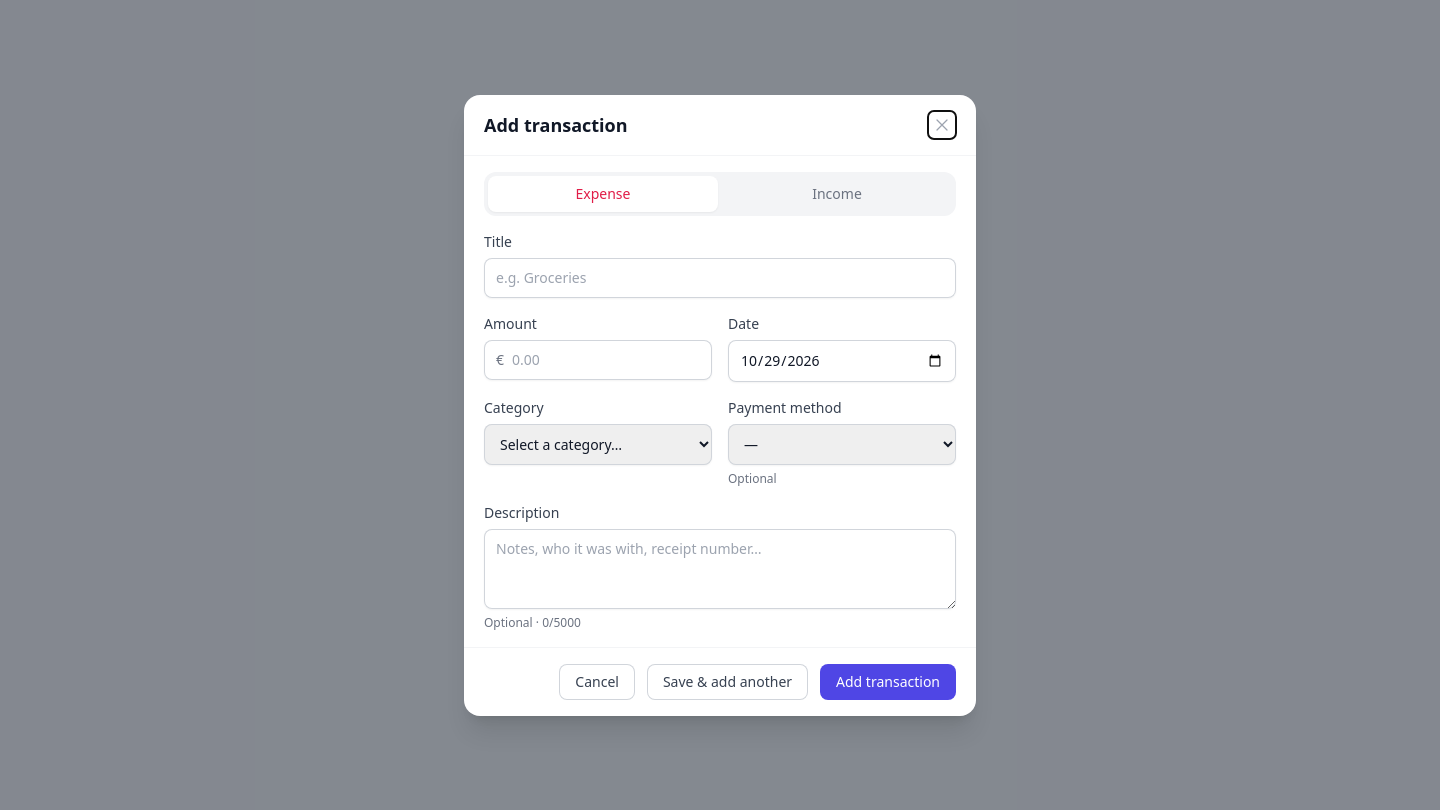
Test case: does not submit an invalid form
This screenshot has width=1440, height=810.
Click the button "Add transaction" at (888, 682), box [820, 664, 956, 700]
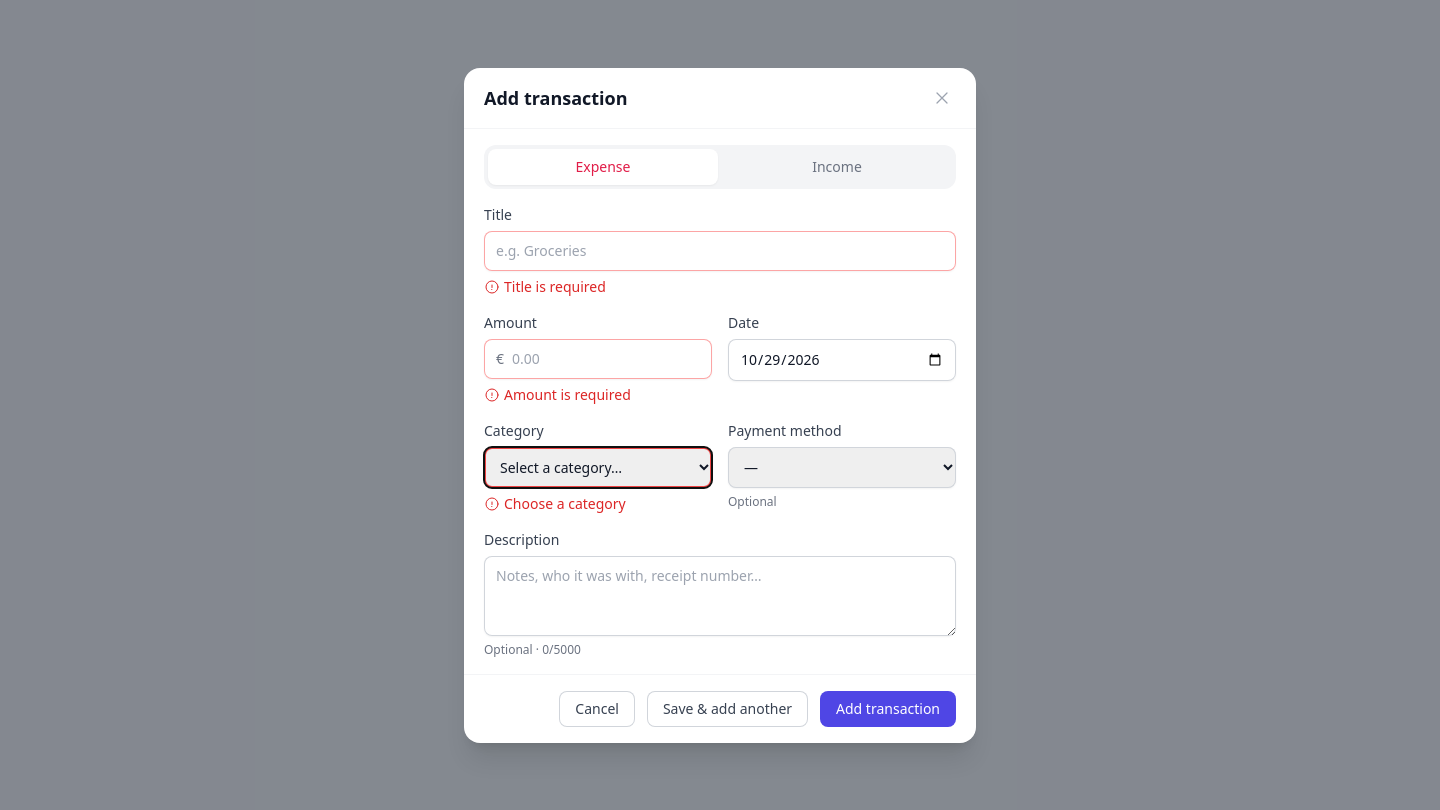
Now the text "Title is required" is shown, box [484, 276, 606, 296]
Now the text "Choose a category" is shown, box [484, 494, 626, 512]
